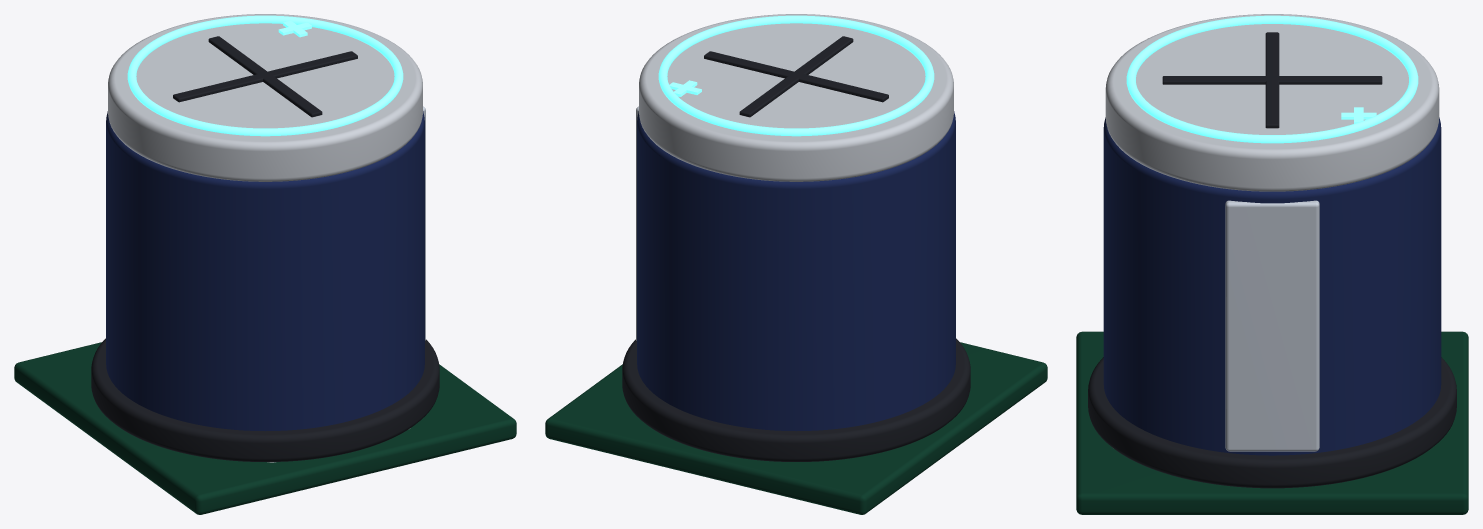
File: capacitor.glb
3 views of the same model, side by side, from view 1: azimuth 30°, elevation 25°; view 2: azimuth 150°, elevation 25°; view 3: azimuth 270°, elevation 25° (orthographic). The views are drawn at different scales.
Visible parts, largest first — view 1: capacitor; view 2: capacitor; view 3: capacitor.
Part boxes in pixels (x1=…): capacitor: x1=14, y1=14, x2=516, y2=514; capacitor: x1=545, y1=14, x2=1047, y2=514; capacitor: x1=1076, y1=14, x2=1468, y2=514.
Bounding box in the file's own units: 1 × 1.01 × 1.
